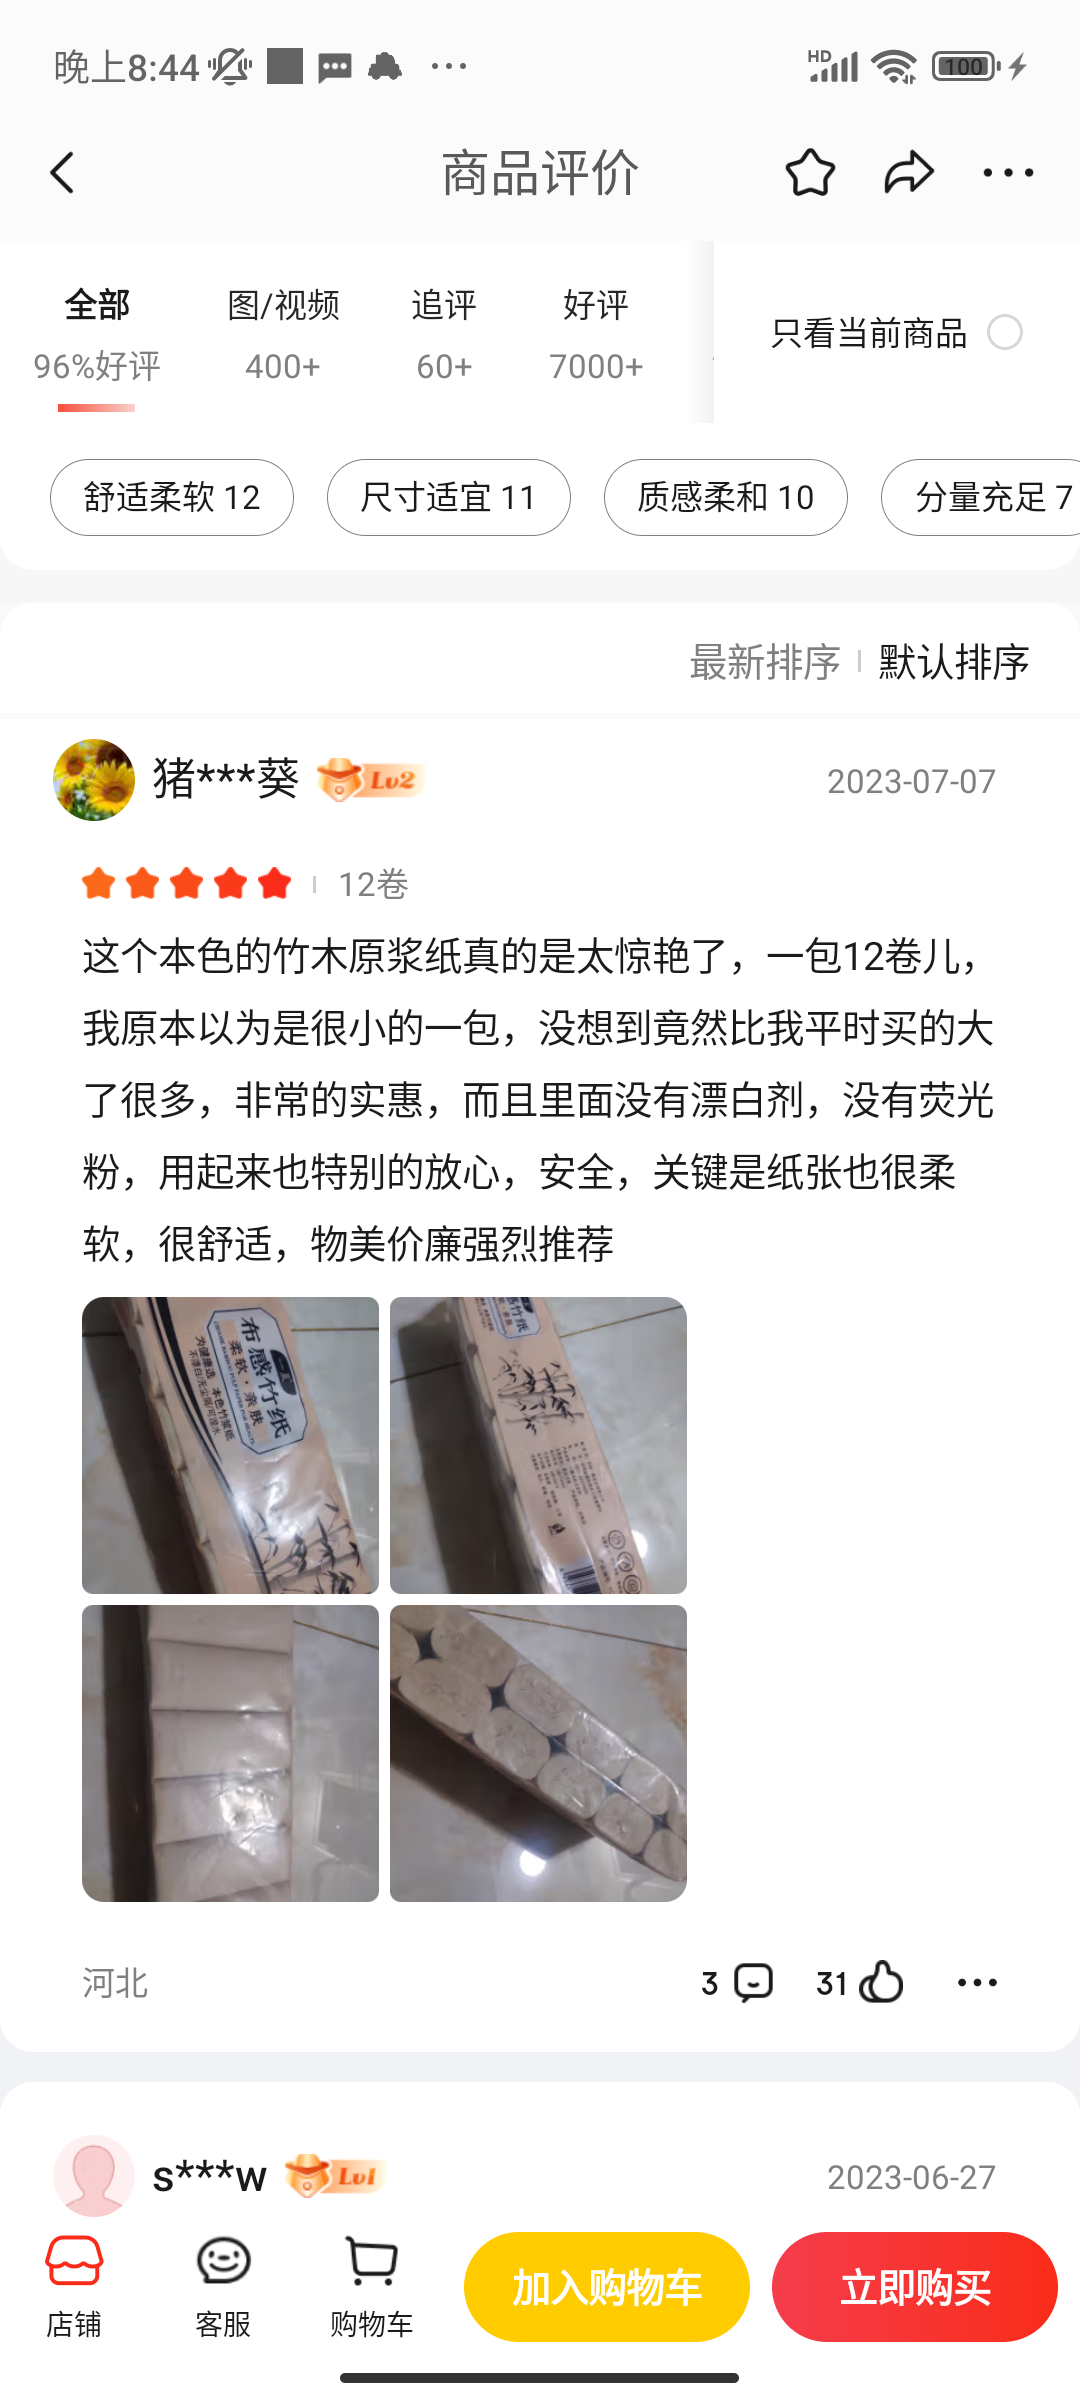ui_group: (18, 262, 190, 403), (216, 259, 364, 403), (312, 2209, 439, 2362), (538, 265, 667, 407), (28, 2222, 127, 2385), (395, 263, 506, 403), (171, 2222, 275, 2369)
